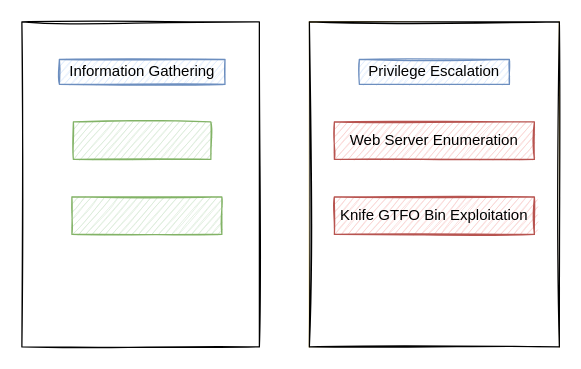
This 581x369 diagram has some shape labels left out. The centre of each missing label's shape, as x and y in pixels:
"Web Enumeration" goes at [141,140].
"Zerodiumsystem Exploit" goes at [146,215].
